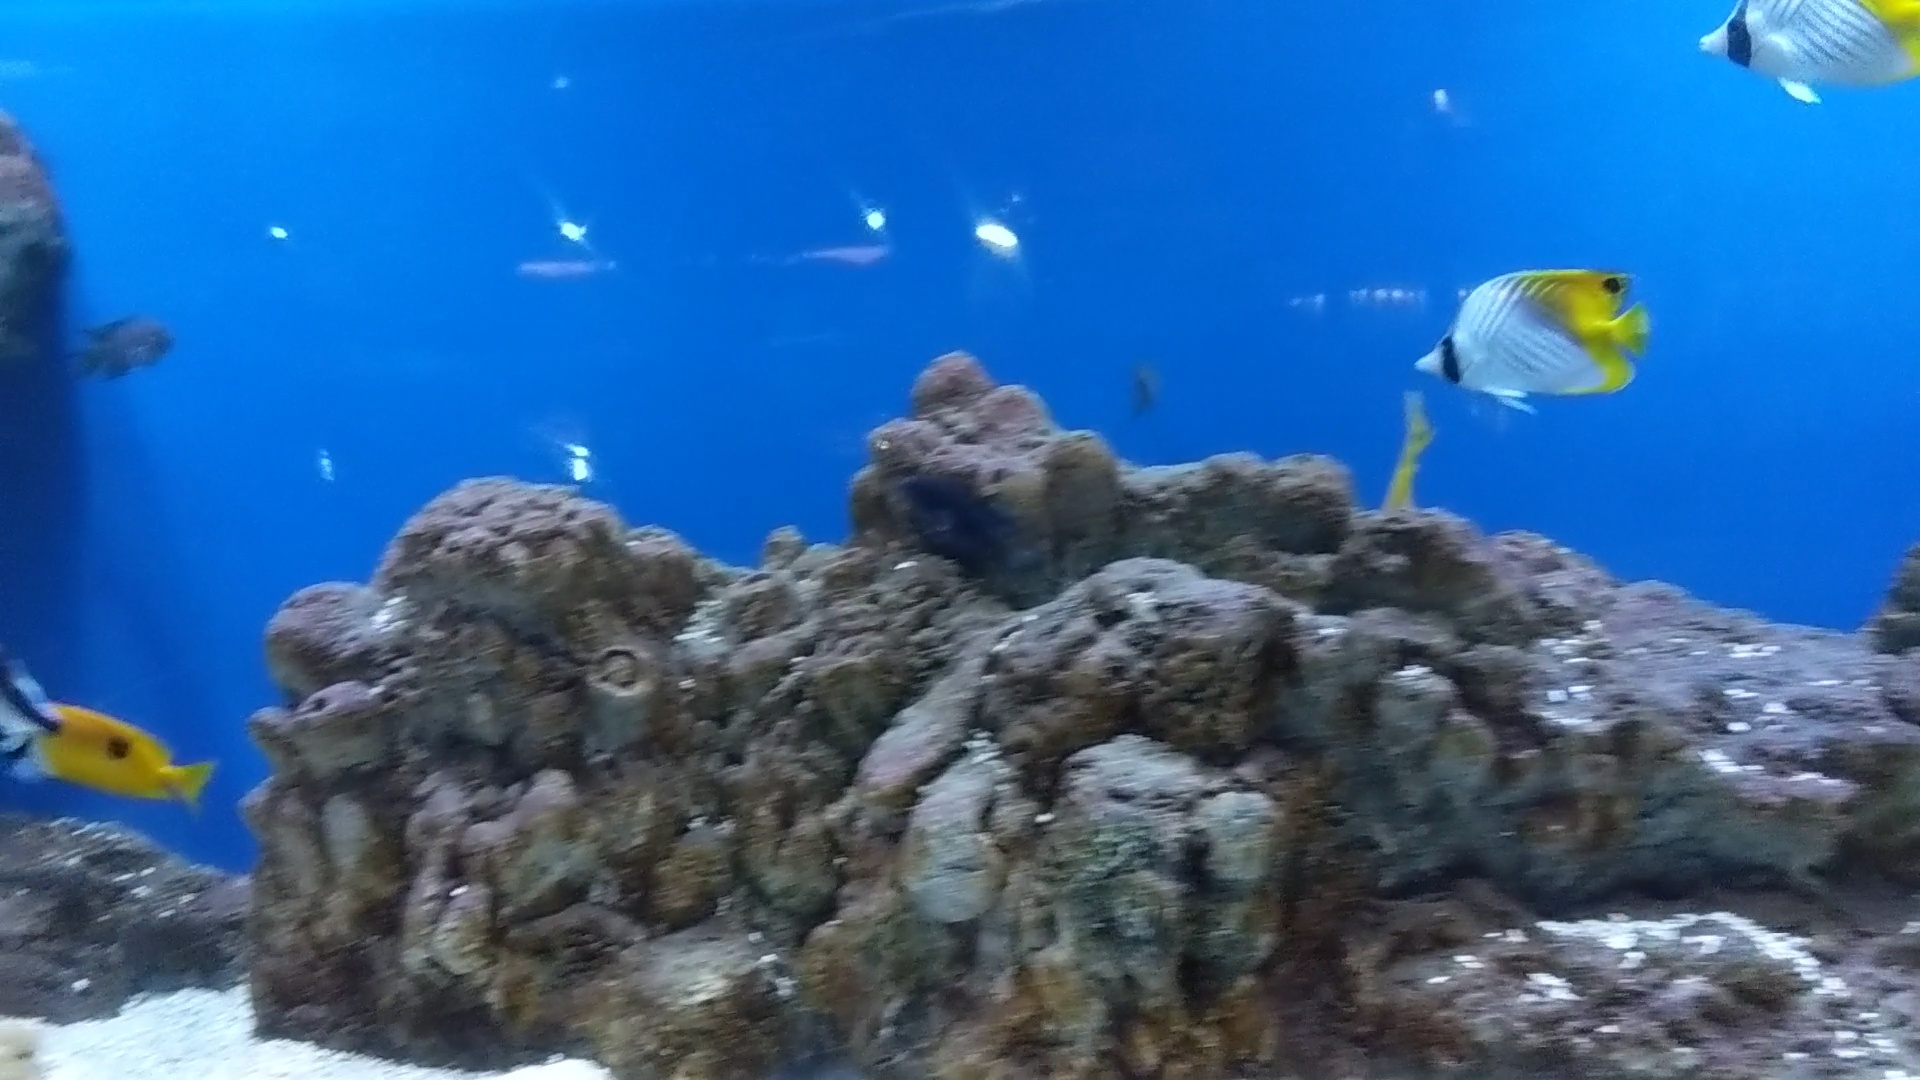butterflyfish: (1389, 258, 1648, 406), (1698, 0, 1888, 80)
rabbitfish: (7, 688, 208, 828)
